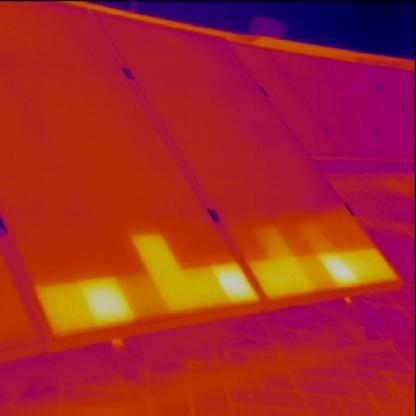anomaly: (129, 234, 259, 311), (28, 272, 148, 336), (313, 240, 402, 287), (255, 246, 316, 298)
